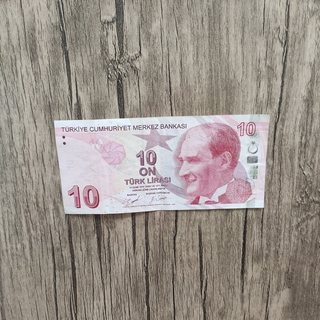10TLFront: (53, 112, 271, 216)
